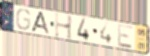4: (76, 18, 91, 43), (99, 21, 114, 46)
A: (31, 11, 51, 35)
E: (117, 23, 135, 51)
G: (15, 8, 31, 32)
H: (54, 11, 74, 41)
